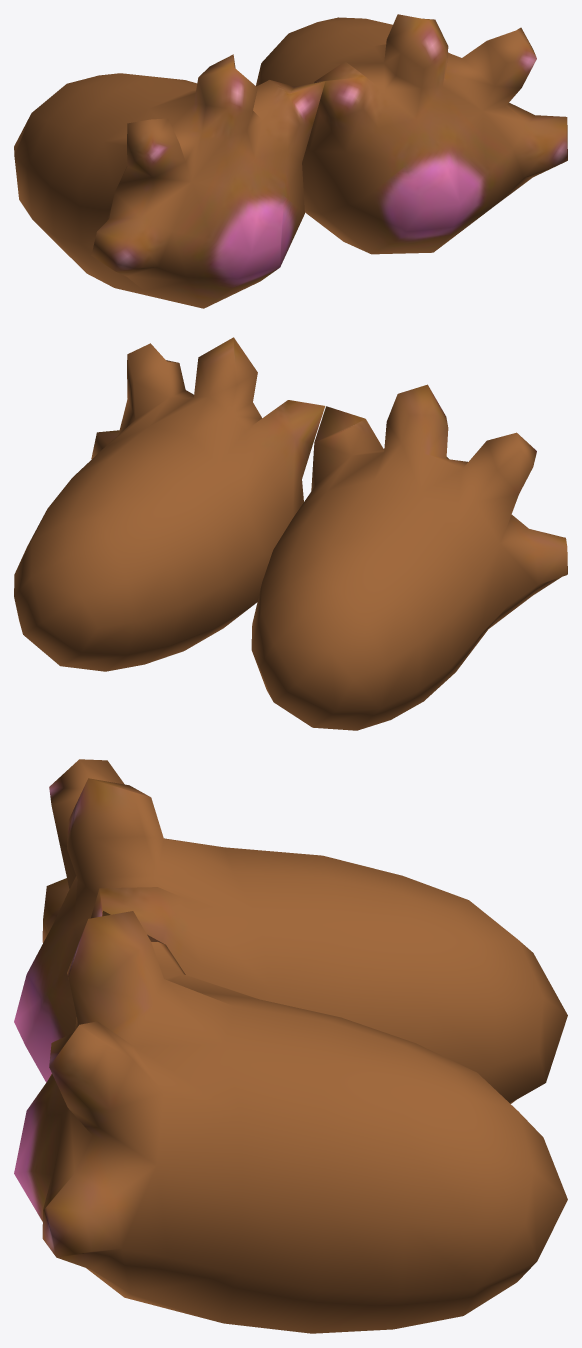
Rendered from Manotas-PIA.glb.
3 views of the same model, one above another, from view 1: azimuth 30°, elevation 25°; view 2: azimuth 150°, elevation 25°; view 3: azimuth 270°, elevation 25° (orthographic). The views are drawn at different scales.
Parts seen in each view (by area): view 1: polySurface18.001; view 2: polySurface18.001; view 3: polySurface18.001.
Boxes of the visible parts, bbox=[...] form: polySurface18.001: bbox=[14, 14, 567, 308]; polySurface18.001: bbox=[14, 337, 567, 730]; polySurface18.001: bbox=[14, 759, 567, 1333].
Bounding box in the file's own units: 4.87 × 2.57 × 3.3.
Materials: 1 (1 with a texture image).
